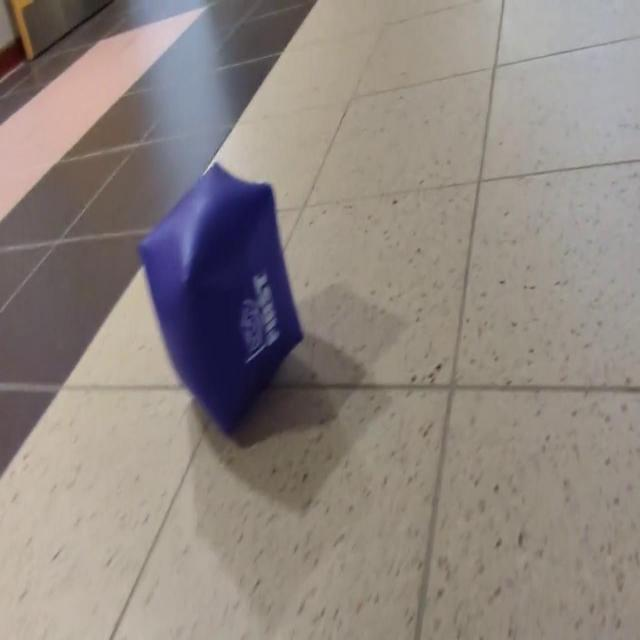frc_cube: (137, 161, 305, 440)
